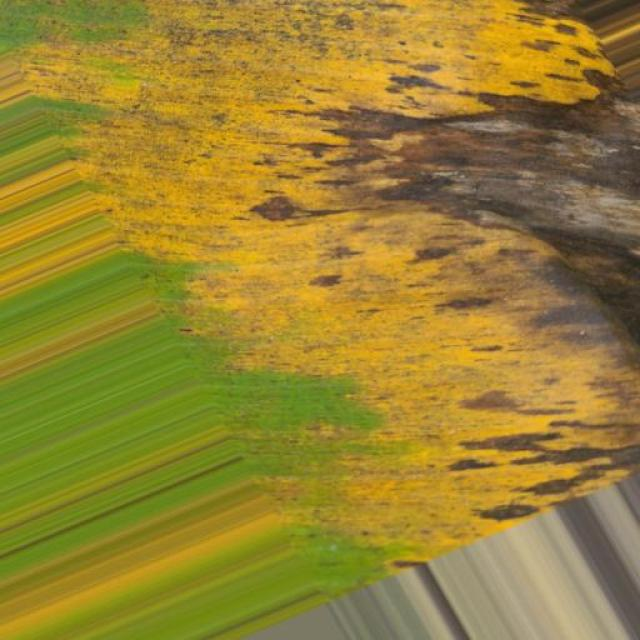Early_rust: (0, 0, 640, 534)
